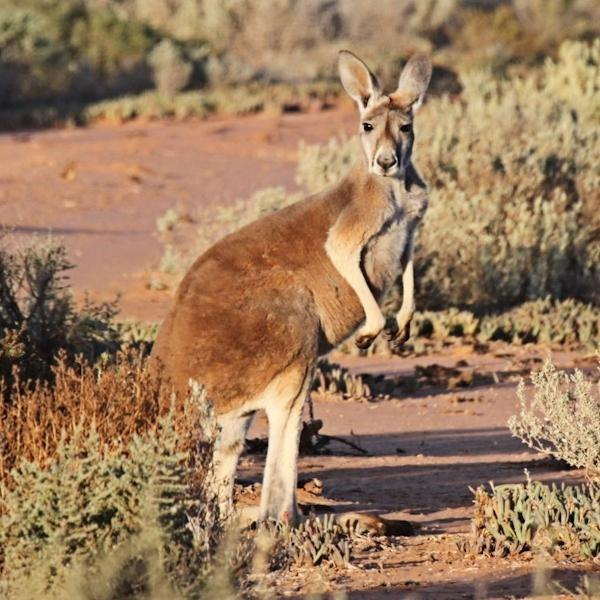Red kangaroo: (113, 50, 438, 540)
